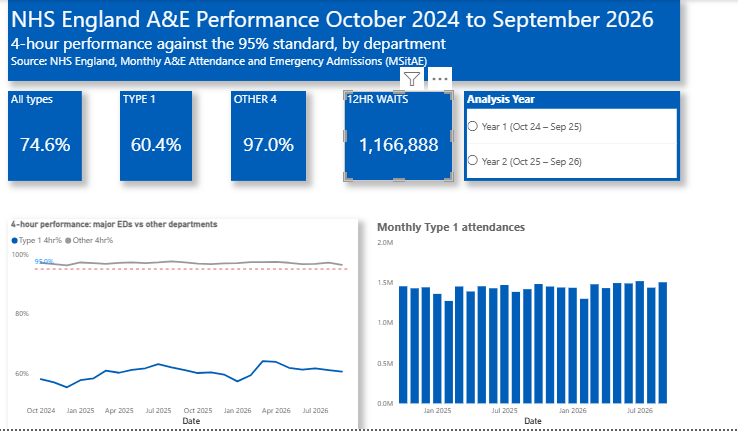

What the dashboard file says about the page in this screenshot:
{"tool":"powerbi","page":{"name":"National Performance","canvas":[1280,720],"ordinal":0},"visuals":[{"type":"textbox","box":[52.1,0,1128.8,136.1],"z":0},{"type":"card","title":"4-HR PERFORMANCE","fields":{"Values":["Measures (2).4HR PERFORMANCE"]},"box":[52.1,152.9,124.3,151.2],"z":1000},{"type":"card","title":"TYPE 1 4-HR %","fields":{"Values":["Measures (2).Type 1 4hr%"]},"box":[240.8,152.9,120.9,151.2],"z":2000},{"type":"card","title":"OTHER 4-HR %","fields":{"Values":["Measures (2).Other 4hr%"]},"box":[426.1,152.9,126,151.2],"z":3000},{"type":"card","title":"12HR DTA WAITS","fields":{"Values":["Measures (2).12hr DTA Waits"]},"box":[616.5,152.9,142.8,151.2],"z":4000},{"type":"lineChart","title":"4-hour performance: major EDs vs other departments","fields":{"Y":["Measures (2).Type 1 4hr%","Measures (2).Other 4hr%"],"Category":["DateTable.Date"]},"box":[52.1,367.2,587.9,352.8],"z":5000},{"type":"clusteredColumnChart","title":"Monthly Type 1 attendances","fields":{"Category":["DateTable.Date"],"Y":["Measures (2).Type 1 Attendances"]},"box":[666.9,367.2,514,352.8],"z":6000},{"type":"listSlicer","title":"Analysis Year","fields":{"Values":["DateTable.Analysis Year"]},"box":[818.1,152.9,362.8,151.2],"z":7000}]}

Visuals, with their boxes on the page's 1280x720 design canvas (x1, y1, x2, y2). These are canvas units, not pixel positions in the 738x431 screenshot, which may show the page scaled, cropped or inside an application window:
textbox: bbox(52, 0, 1181, 136)
"4-HR PERFORMANCE" card: bbox(52, 153, 176, 304)
"TYPE 1 4-HR %" card: bbox(241, 153, 362, 304)
"OTHER 4-HR %" card: bbox(426, 153, 552, 304)
"12HR DTA WAITS" card: bbox(616, 153, 759, 304)
"4-hour performance: major EDs vs other departments" lineChart: bbox(52, 367, 640, 720)
"Monthly Type 1 attendances" clusteredColumnChart: bbox(667, 367, 1181, 720)
"Analysis Year" listSlicer: bbox(818, 153, 1181, 304)
